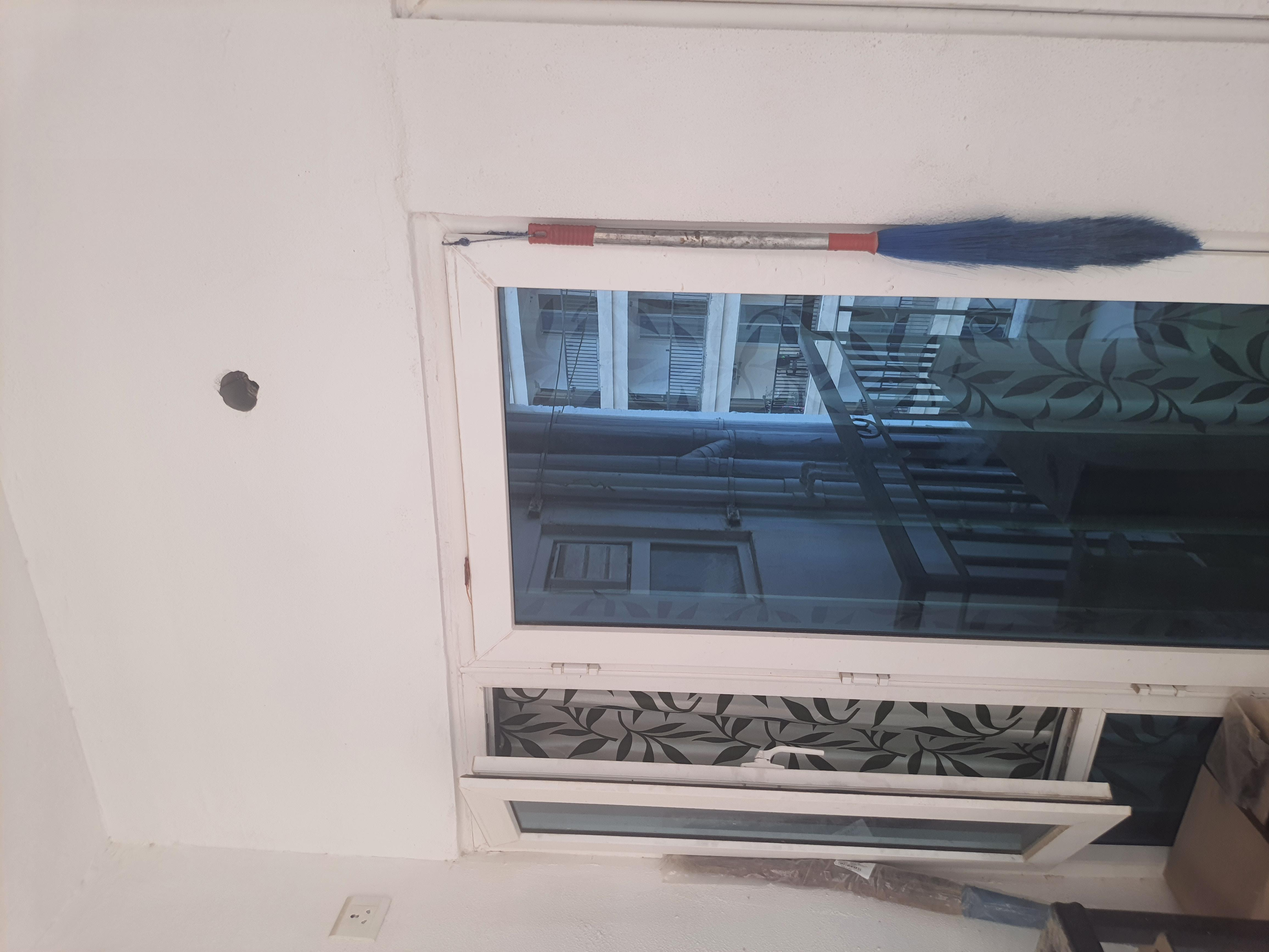cockroach: (466, 338, 534, 358)
